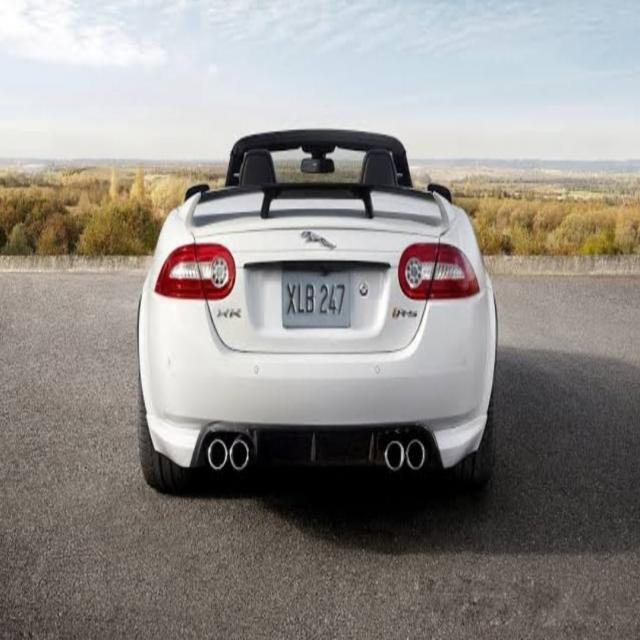Number-Plate: (286, 267, 352, 330)
